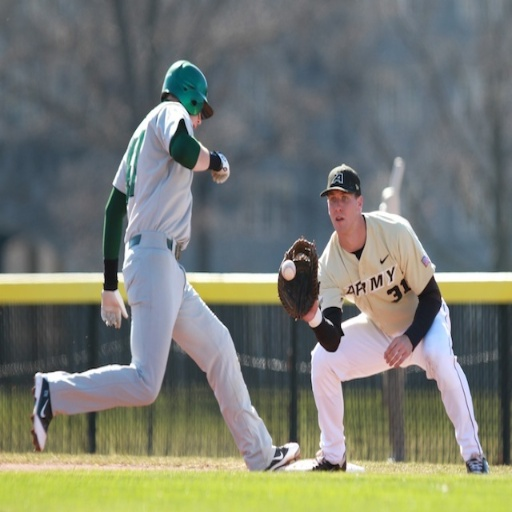hand: (83, 285, 124, 333), (381, 332, 411, 369), (211, 150, 229, 183), (302, 296, 316, 321)
